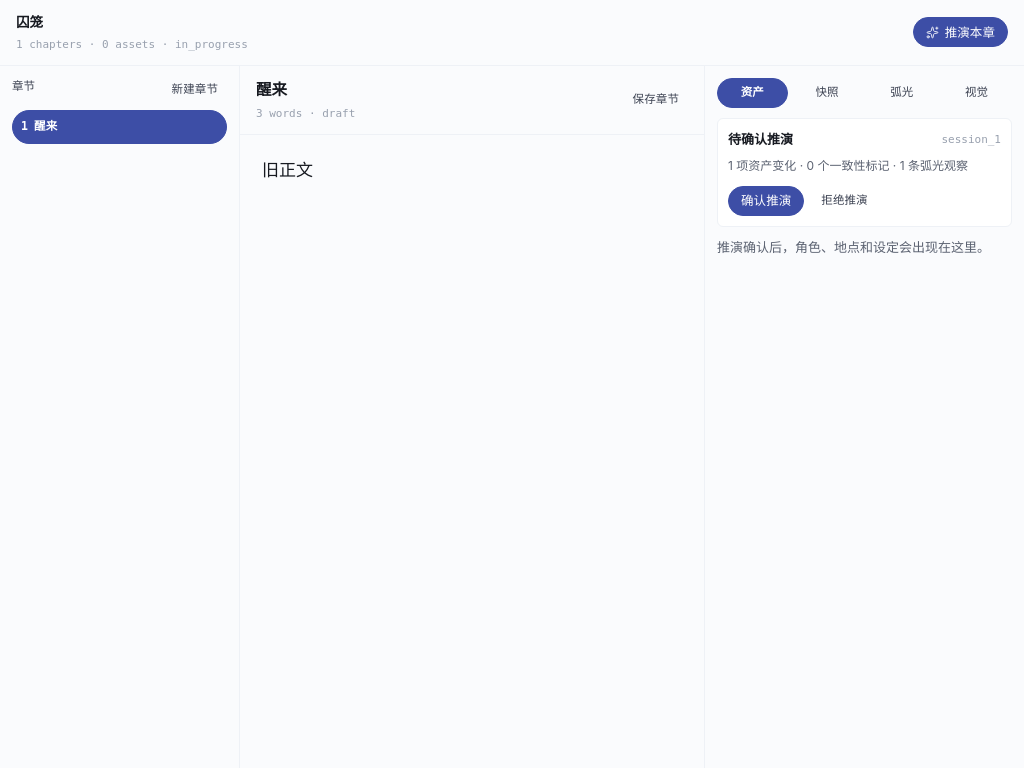
Test: StoryWorkbench › confirms a pending review progression and refreshes accepted assets
Check: the text "待确认推演" is shown, box [728,129,793,149]
Click the button "确认推演" at (766, 201), box [728,186,804,216]
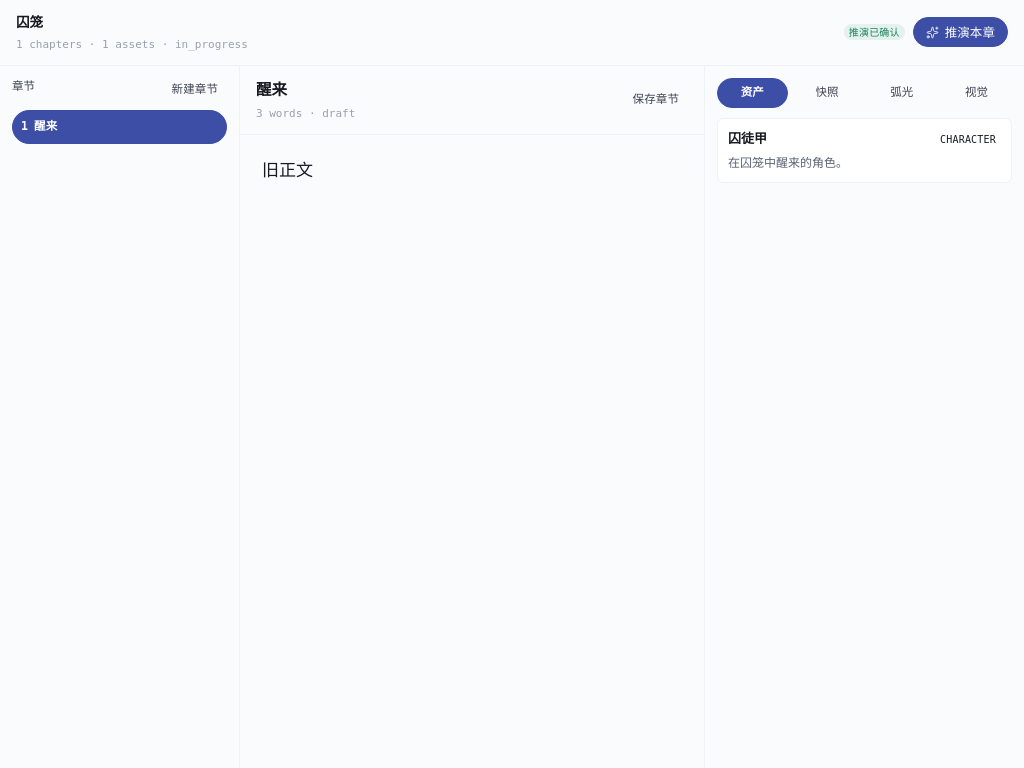
Check: the text "囚徒甲" is shown, box [728,128,767,148]
Check: the text "待确认推演" is gone
